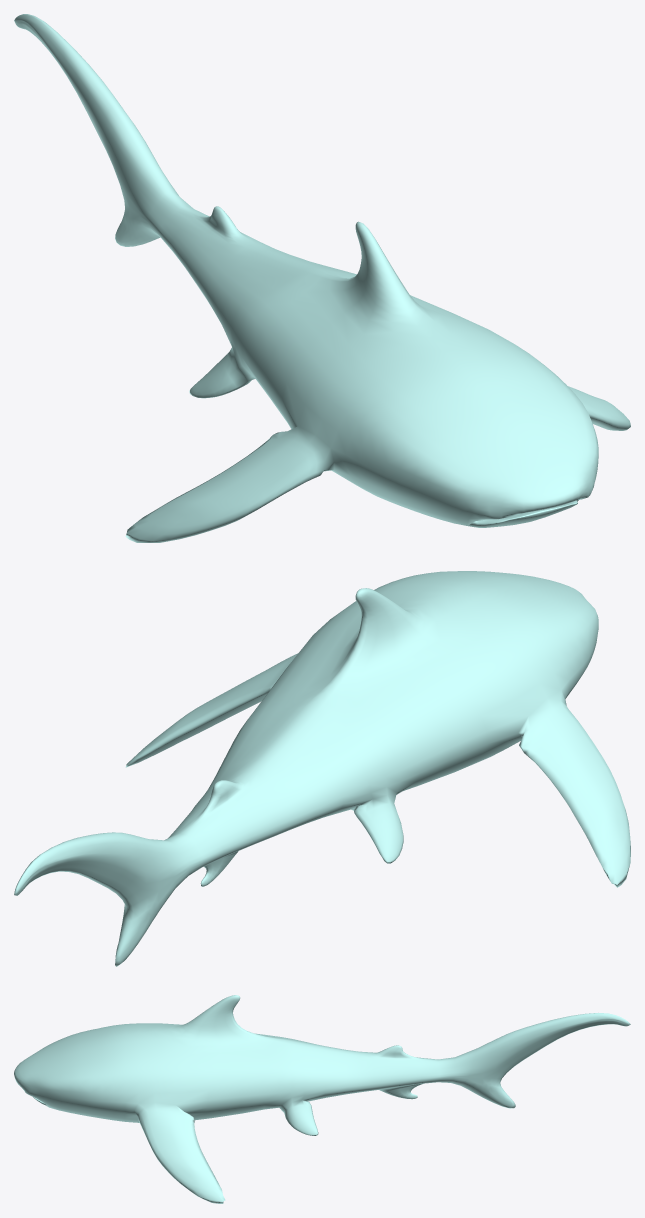
File: Shark.obj
The picture shows the model from 3 angles, top to bottom: view 1: azimuth 30°, elevation 25°; view 2: azimuth 150°, elevation 25°; view 3: azimuth 270°, elevation 25°; orthographic projection. The views are drawn at different scales.
Parts seen in each view (by area): view 1: Shark:pCube1; view 2: Shark:pCube1; view 3: Shark:pCube1.
Part boxes in pixels (x1,y1,x2,y2): Shark:pCube1: (14, 14, 630, 542); Shark:pCube1: (14, 571, 630, 966); Shark:pCube1: (14, 995, 630, 1203).
Bounding box in the file's own units: 2.89 × 1.38 × 5.5.
